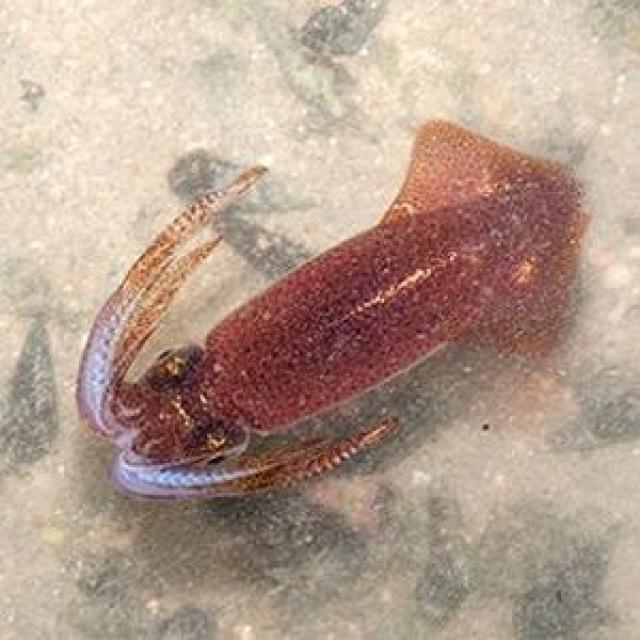SQUID: (58, 100, 600, 502)
